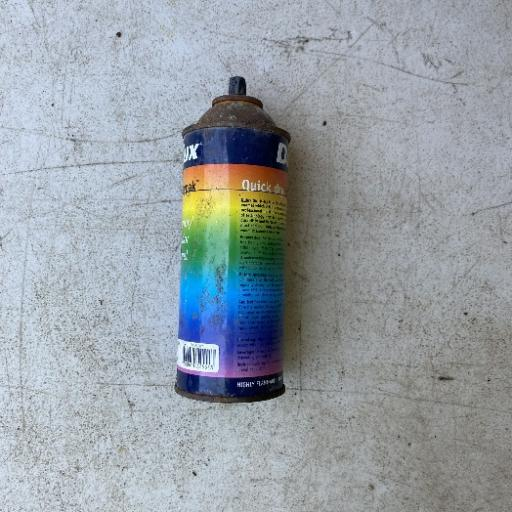Metal: (173, 76, 292, 404)
